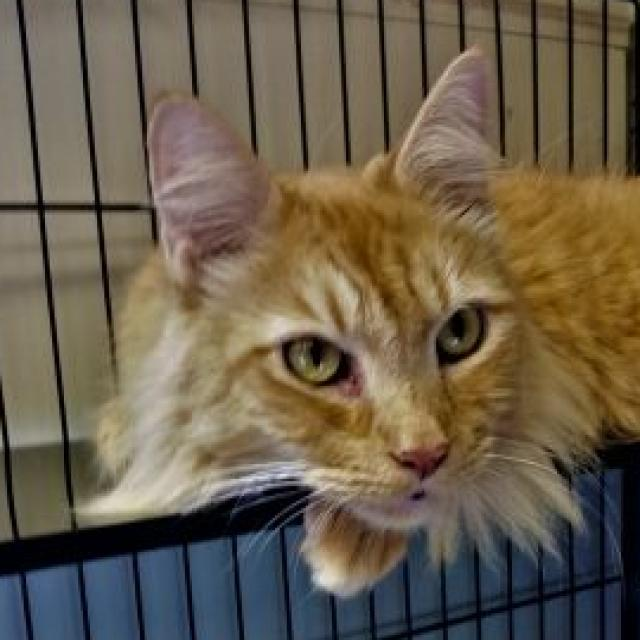Maine Coon: (90, 44, 640, 601)
